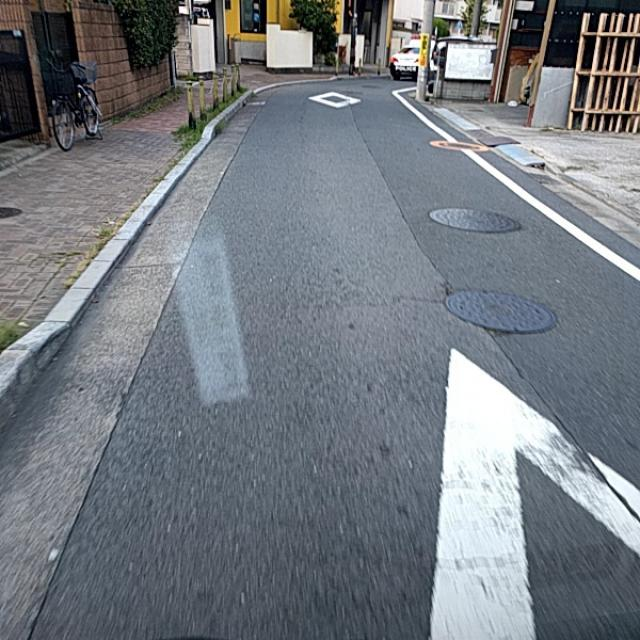pothole: (476, 340, 549, 384)
